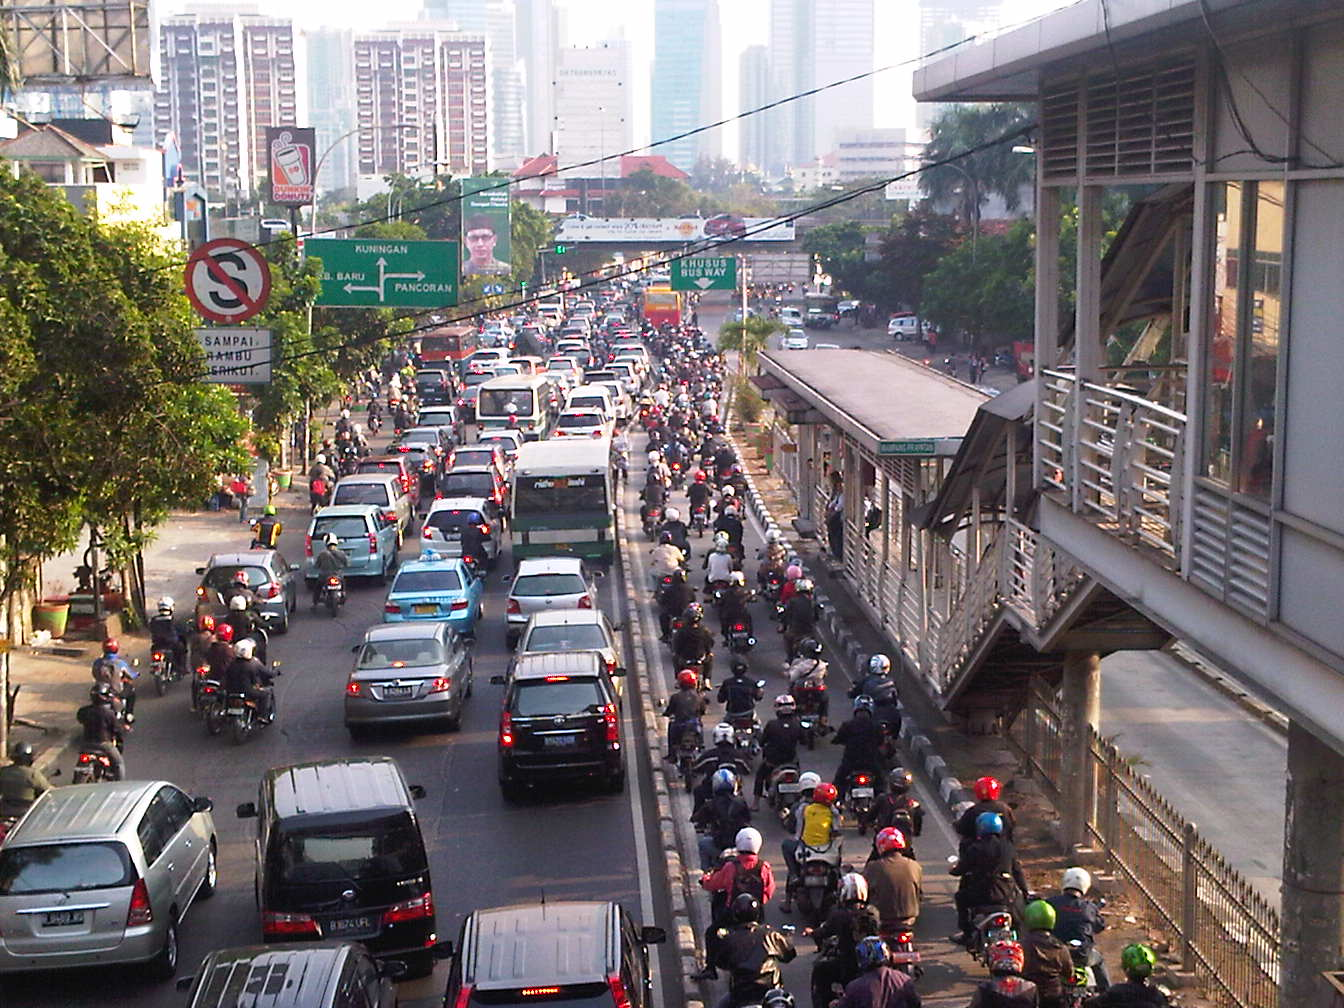car: (248, 765, 436, 978), (4, 782, 215, 972), (450, 904, 656, 1007), (503, 654, 625, 794), (515, 443, 618, 570), (349, 624, 473, 727), (196, 946, 396, 1008), (515, 612, 631, 710), (382, 559, 485, 636), (507, 560, 599, 638), (306, 505, 394, 587), (423, 496, 500, 571), (333, 474, 415, 537), (481, 374, 548, 441), (437, 465, 504, 528), (357, 455, 423, 512), (559, 405, 610, 457), (424, 325, 474, 374), (418, 405, 465, 446), (641, 288, 679, 337), (413, 368, 450, 406), (889, 317, 939, 343), (805, 292, 836, 330), (470, 348, 511, 376), (779, 329, 809, 354), (777, 308, 803, 332)
motorbike: (780, 782, 855, 924), (959, 818, 1031, 961), (856, 830, 922, 986), (703, 821, 771, 969), (947, 775, 1019, 903), (804, 880, 877, 1006), (1047, 864, 1106, 1008), (662, 669, 712, 789), (700, 780, 755, 887), (761, 700, 810, 816), (839, 695, 881, 830), (785, 634, 834, 749), (855, 655, 901, 777), (73, 686, 129, 785), (227, 642, 286, 735), (198, 630, 248, 736), (696, 724, 750, 822), (721, 659, 764, 765), (4, 740, 48, 844), (671, 601, 714, 703), (145, 598, 189, 695), (224, 600, 269, 692), (93, 639, 137, 727), (714, 571, 758, 656), (781, 583, 821, 672), (662, 571, 700, 649), (779, 566, 816, 644), (196, 618, 224, 718), (228, 571, 262, 647), (758, 533, 791, 613), (705, 536, 741, 609), (657, 509, 694, 577), (316, 535, 346, 619), (649, 534, 683, 602), (459, 513, 491, 580), (716, 508, 746, 572), (250, 504, 281, 562), (688, 471, 713, 540), (639, 474, 666, 540), (727, 465, 750, 517), (649, 452, 672, 504), (308, 458, 330, 513), (667, 433, 688, 489), (700, 436, 717, 484), (720, 442, 735, 494), (393, 403, 413, 439), (366, 392, 381, 441), (335, 412, 353, 451), (638, 389, 653, 430), (702, 394, 718, 429), (384, 382, 398, 415), (655, 384, 668, 417)
